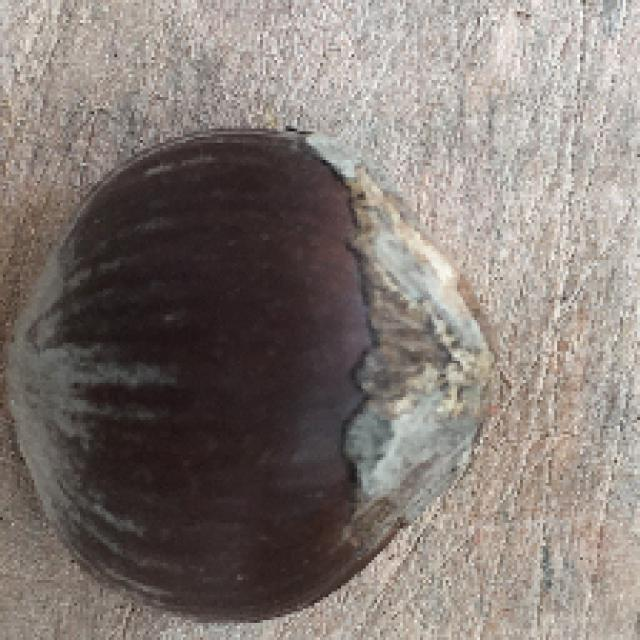damagedHazelnut: (0, 123, 509, 617)
